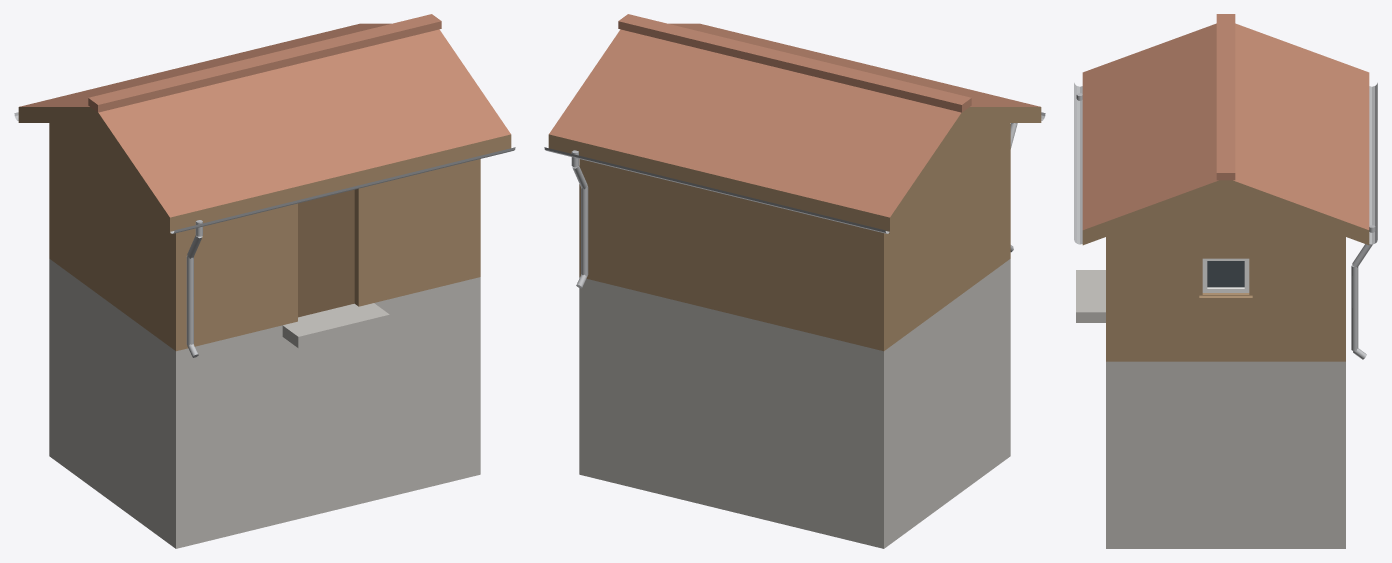
Rendered from shed_m.glb.
3 views of the same model, side by side, from view 1: azimuth 30°, elevation 25°; view 2: azimuth 150°, elevation 25°; view 3: azimuth 270°, elevation 25° (orthographic). The views are drawn at different scales.
Parts seen in each view (by area): view 1: shed_m; view 2: shed_m; view 3: shed_m.
Part boxes in pixels (left/top/right/bottom): shed_m: left=14, top=14, right=515, bottom=548; shed_m: left=544, top=14, right=1045, bottom=548; shed_m: left=1074, top=14, right=1377, bottom=548.
Size of the model in its own units: 5.64 by 6.37 by 4.55.
